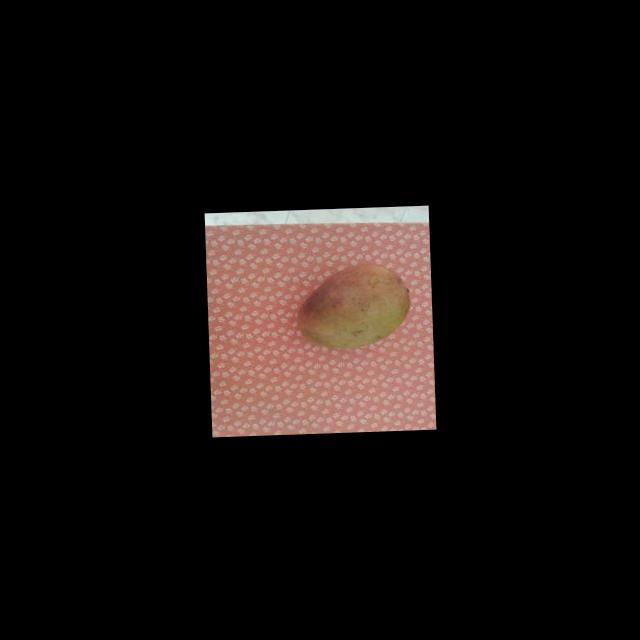Mango: (296, 260, 413, 350)
